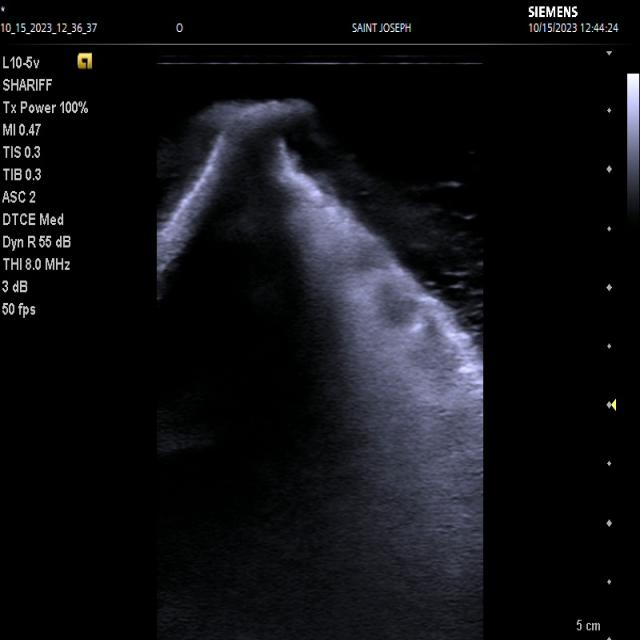tissue: (158, 102, 483, 640)
